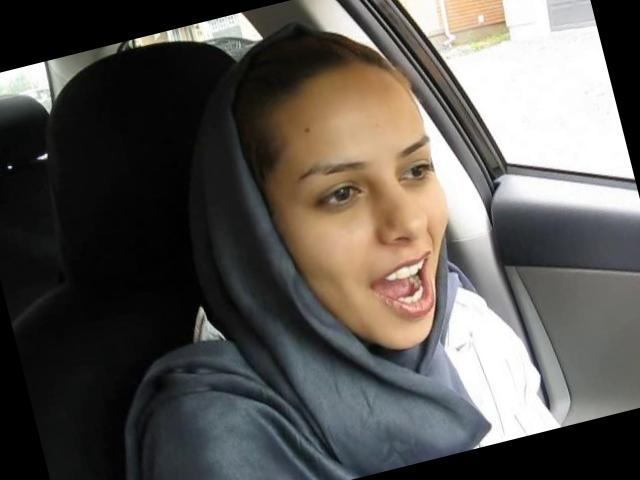eye_open: (307, 175, 368, 219), (396, 153, 438, 190)
face: (256, 110, 487, 381)
mouth_open: (360, 246, 450, 328)
